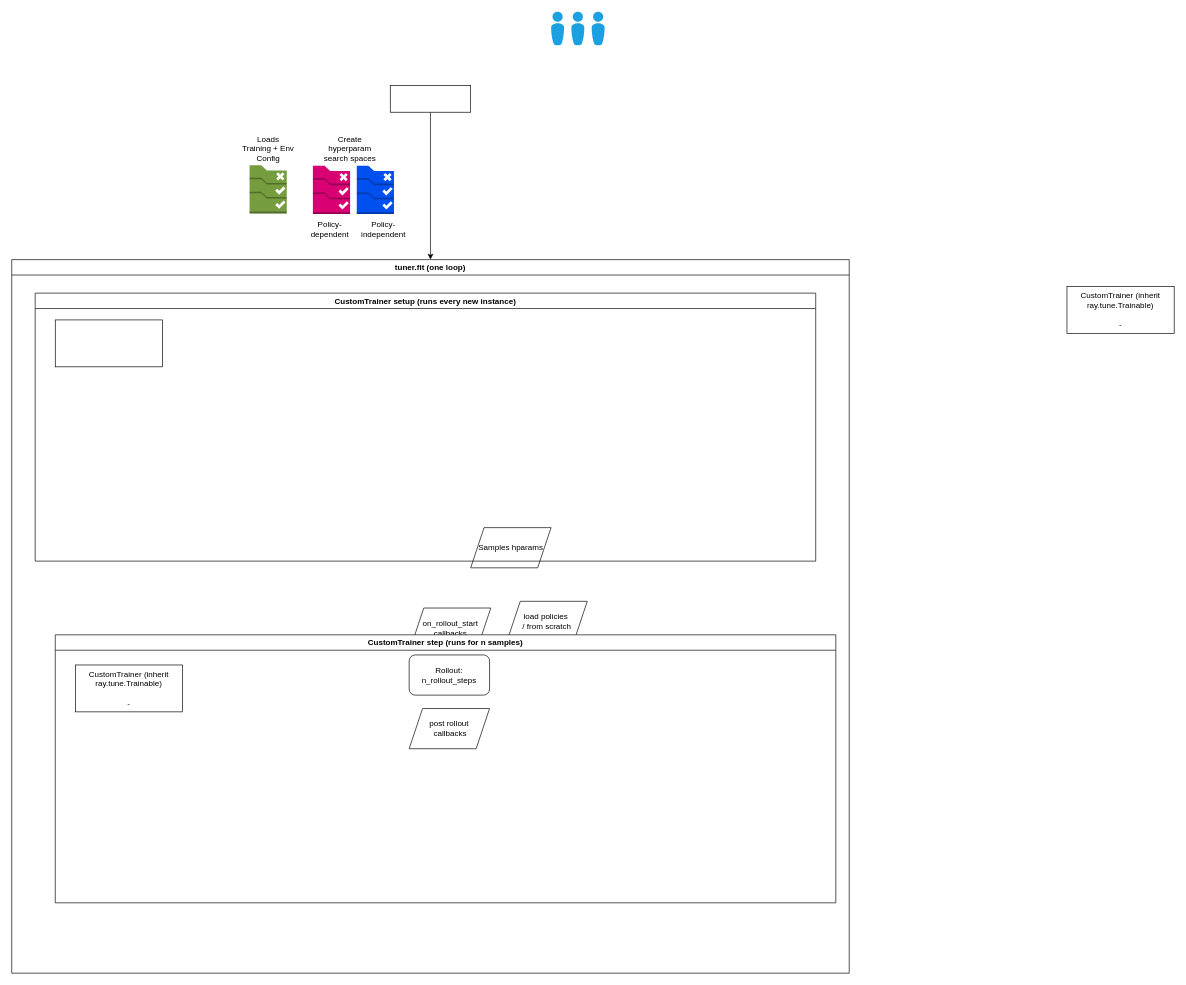
Image size: 1186x985. Some labels were removed from this diagram. The centre of each missing label's shape, as x and y in pixels:
"Entrypoint: Orchestrator" goes at (x=430, y=98).
"RolloutSimulator" goes at (x=108, y=343).
